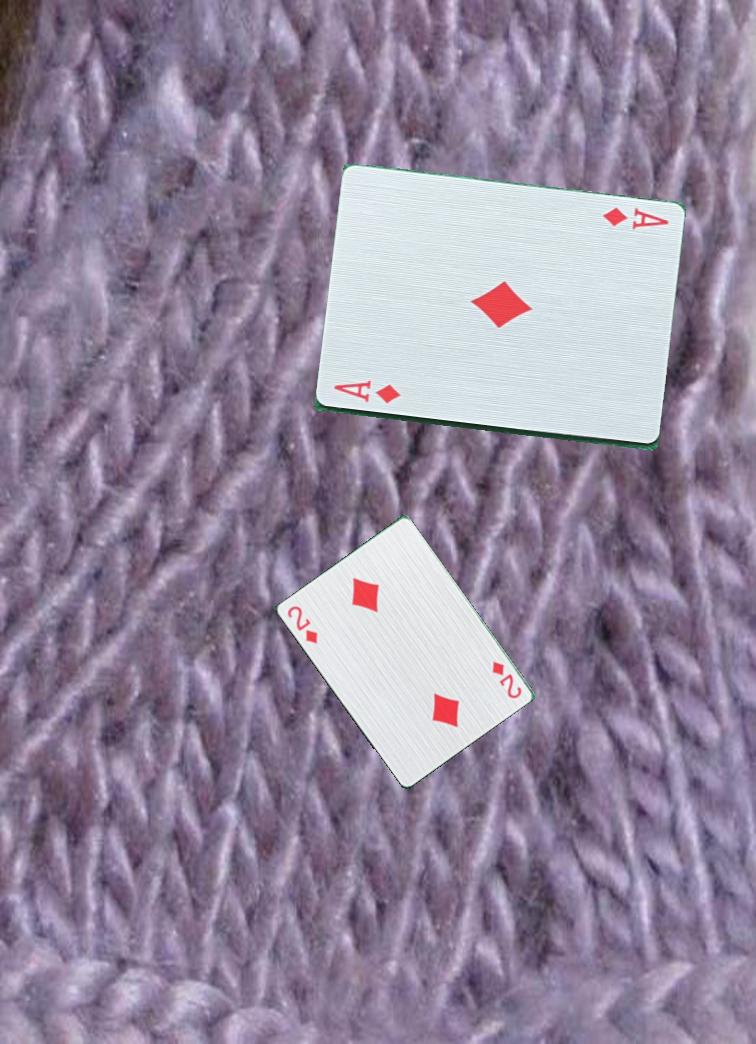2d: (489, 658, 529, 708), (284, 602, 321, 647)
ad: (323, 377, 408, 413), (599, 203, 673, 232)
